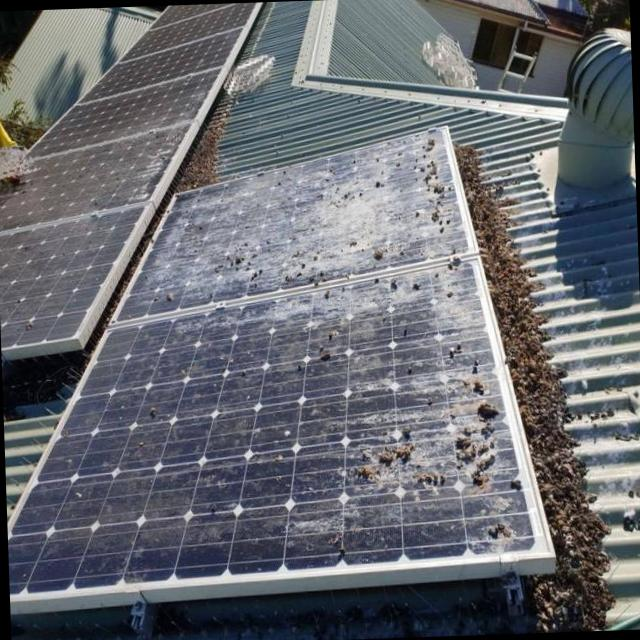faulty: (8, 258, 532, 598), (122, 134, 461, 315), (0, 122, 190, 229), (0, 210, 136, 346), (28, 69, 210, 156)
